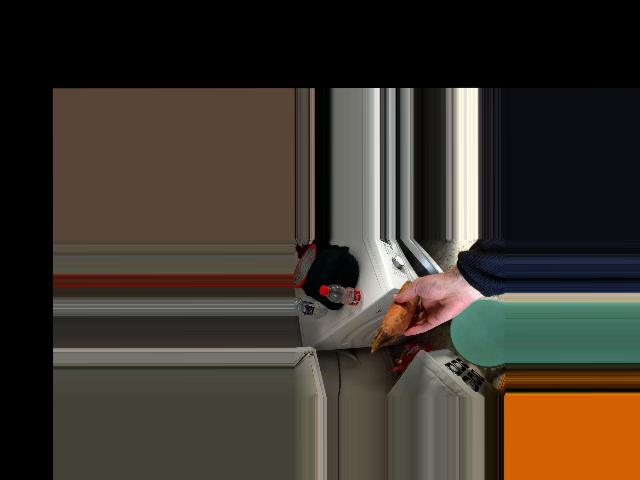sweet_potato: (380, 287, 425, 333)
